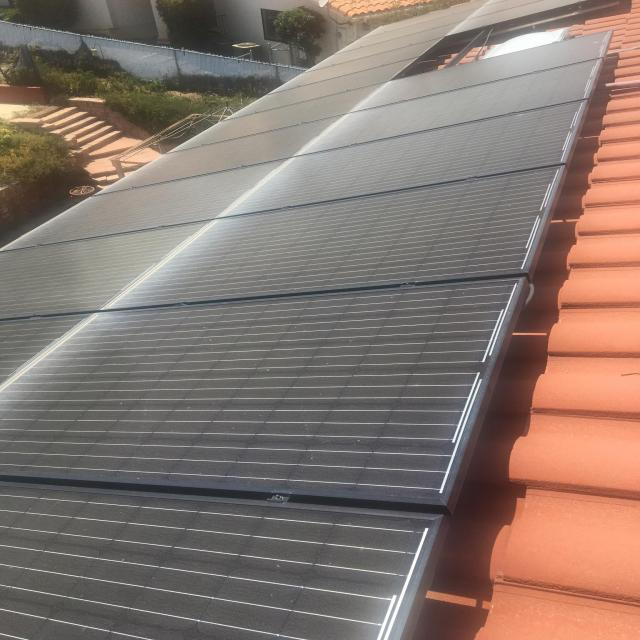dust-solar-panel: (0, 0, 608, 640)
